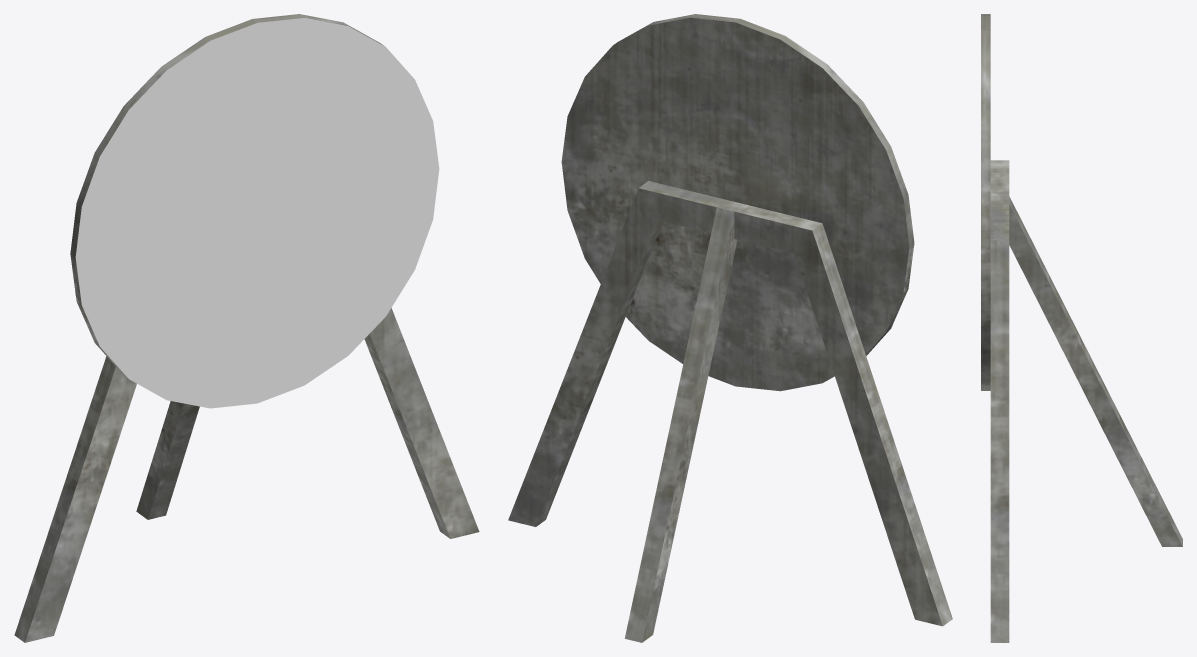
File: sb_sign_sharp_left.FBX
3 renders of one model, left to right at view 1: azimuth 30°, elevation 25°; view 2: azimuth 150°, elevation 25°; view 3: azimuth 270°, elevation 25°, orthographic. The views are drawn at different scales.
Parts seen in each view (by area): view 1: sb_sign_sharp_left; view 2: sb_sign_sharp_left; view 3: sb_sign_sharp_left.
Boxes of the visible parts, x1=… form: sb_sign_sharp_left: x1=14, y1=14, x2=479, y2=642; sb_sign_sharp_left: x1=508, y1=14, x2=952, y2=642; sb_sign_sharp_left: x1=981, y1=14, x2=1182, y2=642.
Bounding box in the file's own units: 2.5 × 2.99 × 1.07.
